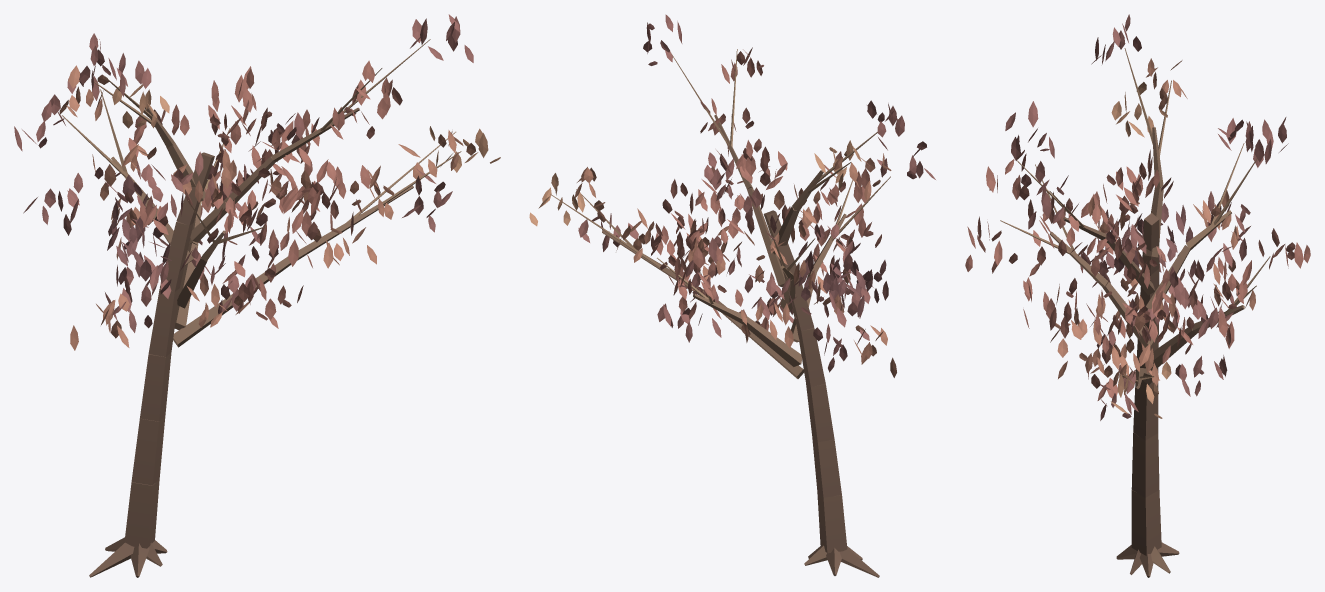
Rendered from tree_3d_04_red.glb.
3 renders of one model, left to right at view 1: azimuth 30°, elevation 25°; view 2: azimuth 150°, elevation 25°; view 3: azimuth 270°, elevation 25°, orthographic. The views are drawn at different scales.
Parts seen in each view (by area): view 1: tree_3d_04_red_foliage, tree_3d_04_red_wood; view 2: tree_3d_04_red_foliage, tree_3d_04_red_wood; view 3: tree_3d_04_red_foliage, tree_3d_04_red_wood.
Part boxes in pixels (<box>): tree_3d_04_red_foliage: <box>14,14,500,350</box>; tree_3d_04_red_wood: <box>62,39,461,577</box>; tree_3d_04_red_foliage: <box>529,14,935,377</box>; tree_3d_04_red_wood: <box>550,49,890,577</box>; tree_3d_04_red_foliage: <box>965,14,1310,420</box>; tree_3d_04_red_wood: <box>1000,48,1270,577</box>.
Bounding box in the file's own units: 9.4 × 11.5 × 6.8.
